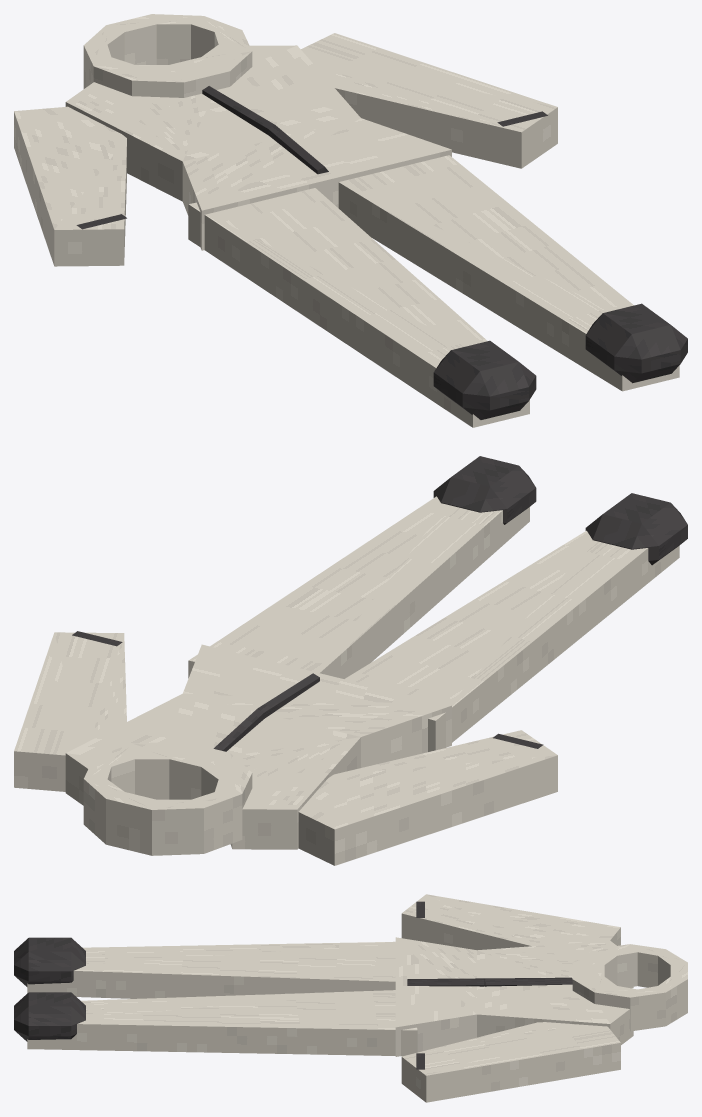
Rendered from cleansuit.glb.
The picture shows the model from 3 angles, top to bottom: view 1: azimuth 30°, elevation 25°; view 2: azimuth 150°, elevation 25°; view 3: azimuth 270°, elevation 25°; orthographic projection. The views are drawn at different scales.
Parts seen in each view (by area): view 1: block_integral trouser leg (×2), block_sleeve (×2), block_suit torso, block_attached hood, block_sealed cuff or boot (×2), block_sealed front zipper 0, block_sealed front zipper 1; view 2: block_integral trouser leg (×2), block_sleeve (×2), block_suit torso, block_attached hood, block_sealed cuff or boot (×2), block_sealed front zipper 1, block_sealed front zipper 0; view 3: block_integral trouser leg (×2), block_sleeve (×2), block_suit torso, block_attached hood, block_sealed cuff or boot (×2), block_sealed front zipper 0, block_sealed front zipper 1.
Boxes of the visible parts, x1,y1,x2,y2 form: block_integral trouser leg (×2): (188,155,679,427); block_sleeve (×2): (14,33,557,266); block_suit torso: (65,45,451,250); block_attached hood: (83,14,252,97); block_sealed cuff or boot (×2): (433,303,687,419); block_sealed front zipper 0: (202,86,274,134); block_sealed front zipper 1: (268,125,328,174); block_integral trouser leg (×2): (188,496,679,751); block_sleeve (×2): (14,632,557,865); block_suit torso: (65,644,451,849); block_attached hood: (83,741,252,855); block_sealed cuff or boot (×2): (433,456,687,565); block_sealed front zipper 1: (258,673,319,718); block_sealed front zipper 0: (213,708,264,751); block_integral trouser leg (×2): (27,941,417,1056); block_sleeve (×2): (401,894,620,1102); block_suit torso: (395,937,633,1056); block_attached hood: (572,944,687,1031); block_sealed cuff or boot (×2): (14,937,85,1041); block_sealed front zipper 0: (485,977,572,986); block_sealed front zipper 1: (407,978,484,986).
Bounding box in the file's own units: 0.0765 × 0.00807 × 0.12.
1 material, 1 textured.
